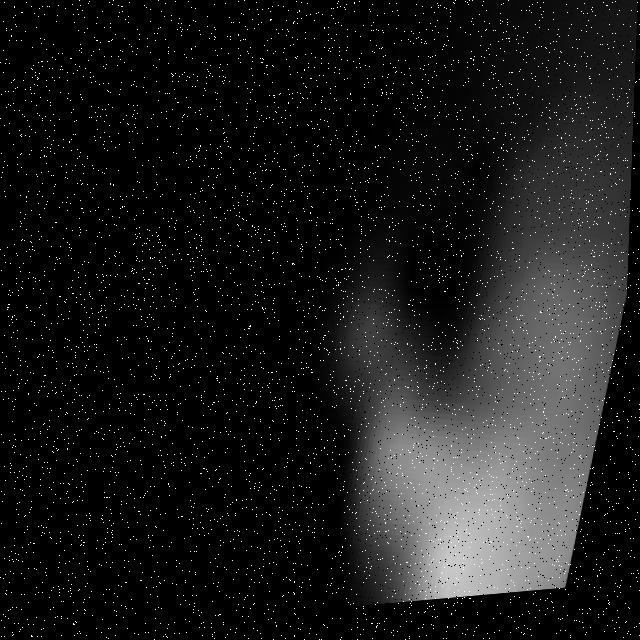person: (303, 93, 637, 619)
